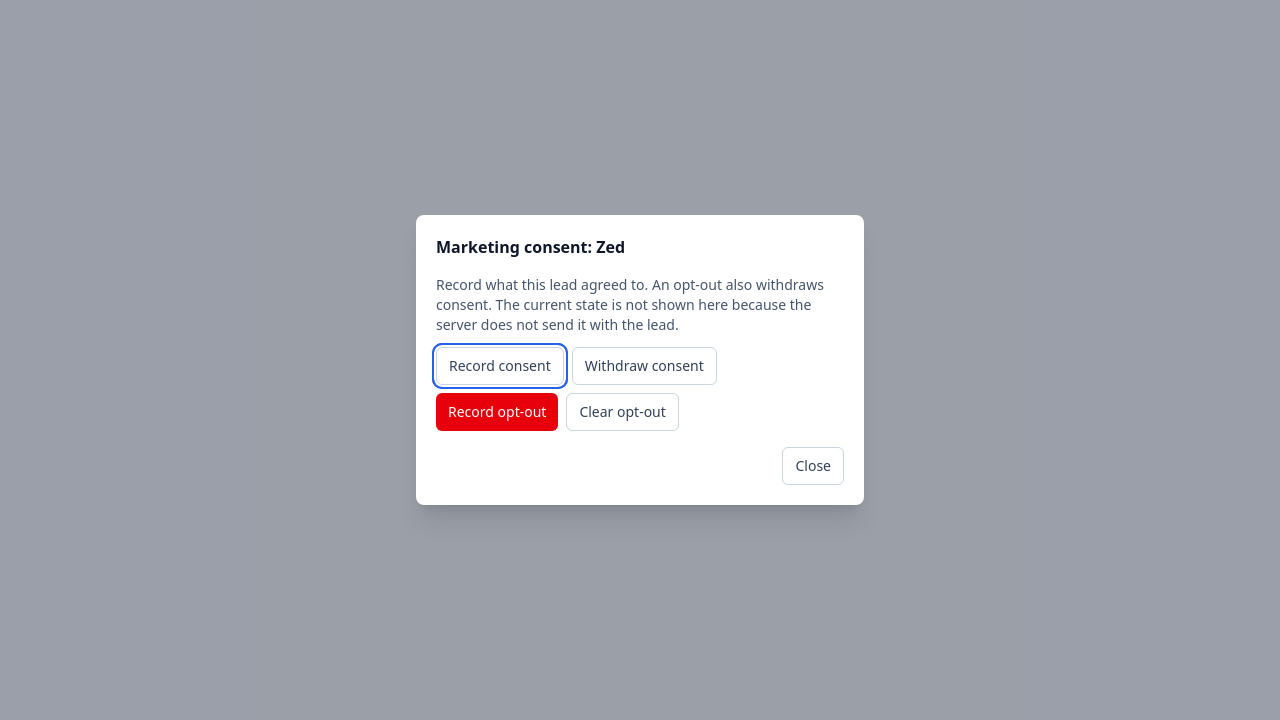
Test: LeadConsentDialog › sends each action and shows refusals
What coordinates should you click on to do the following:
click the button "Record consent"
I would click on:
 (500, 366)
Its box is [436,347,564,385].
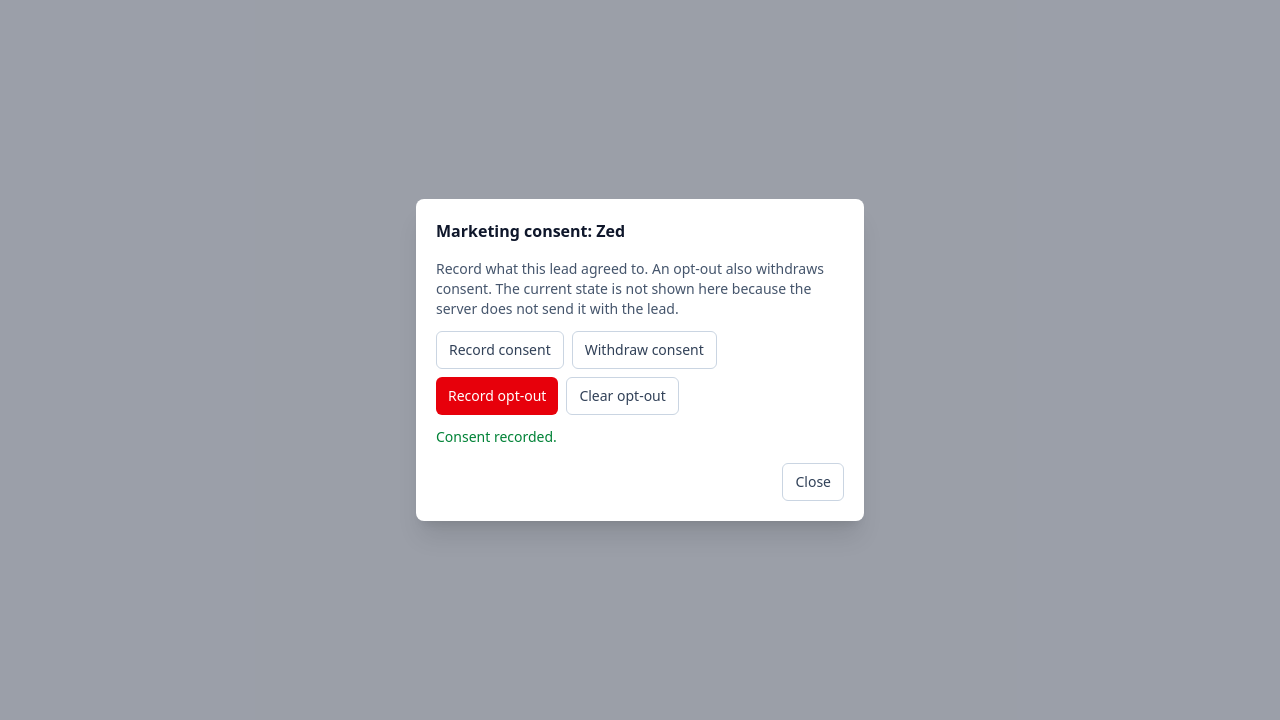
Result: the text "Consent recorded." is shown at [436,427,557,446]
What coordinates should you click on to do the following:
click the button "Record opt-out"
I would click on:
 (497, 396)
Its box is [436,377,558,415].
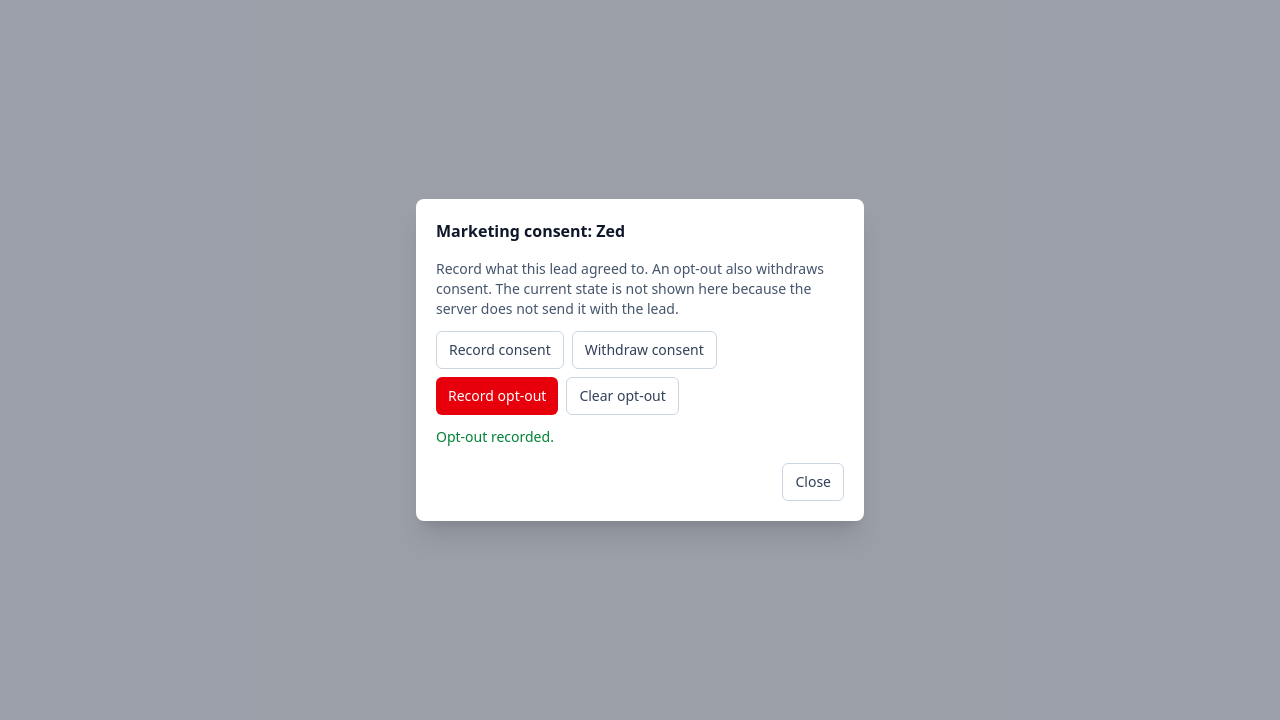
What coordinates should you click on to do the following:
click the button "Clear opt-out"
I would click on:
 (623, 396)
Its box is [566,377,679,415].
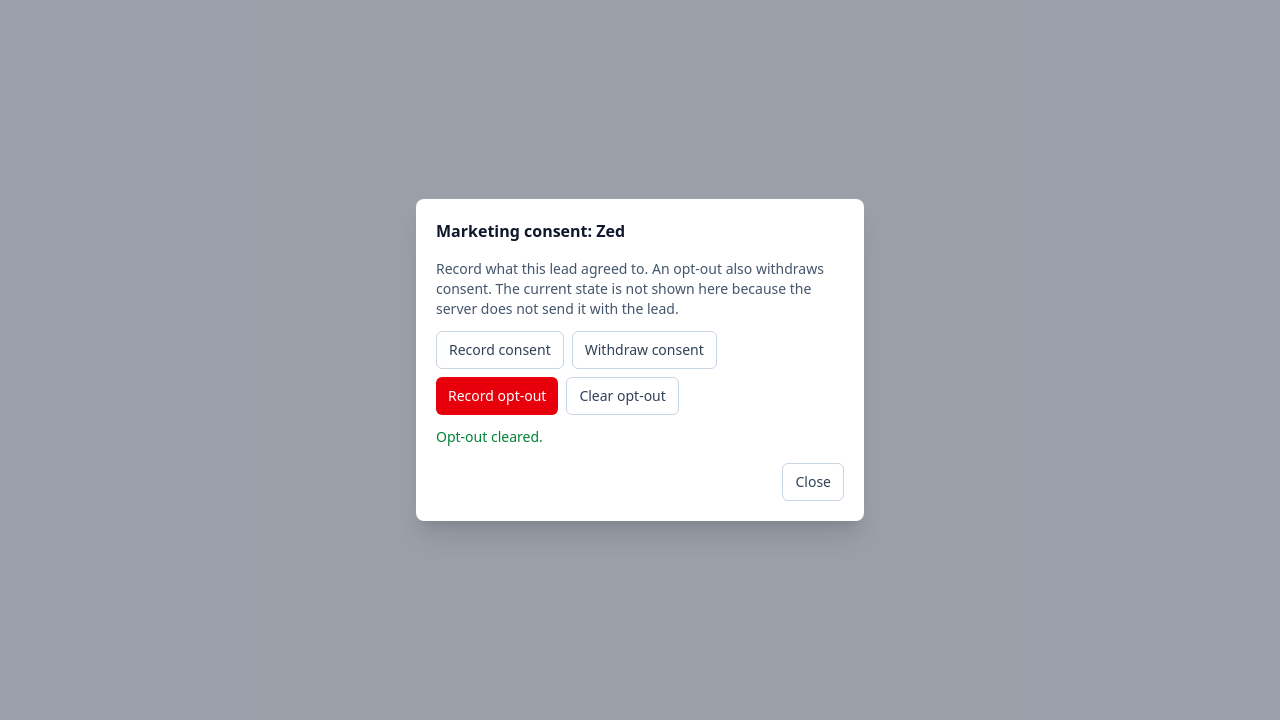
What coordinates should you click on to do the following:
click the button "Withdraw consent"
I would click on:
 (644, 350)
Its box is [572,331,717,369].
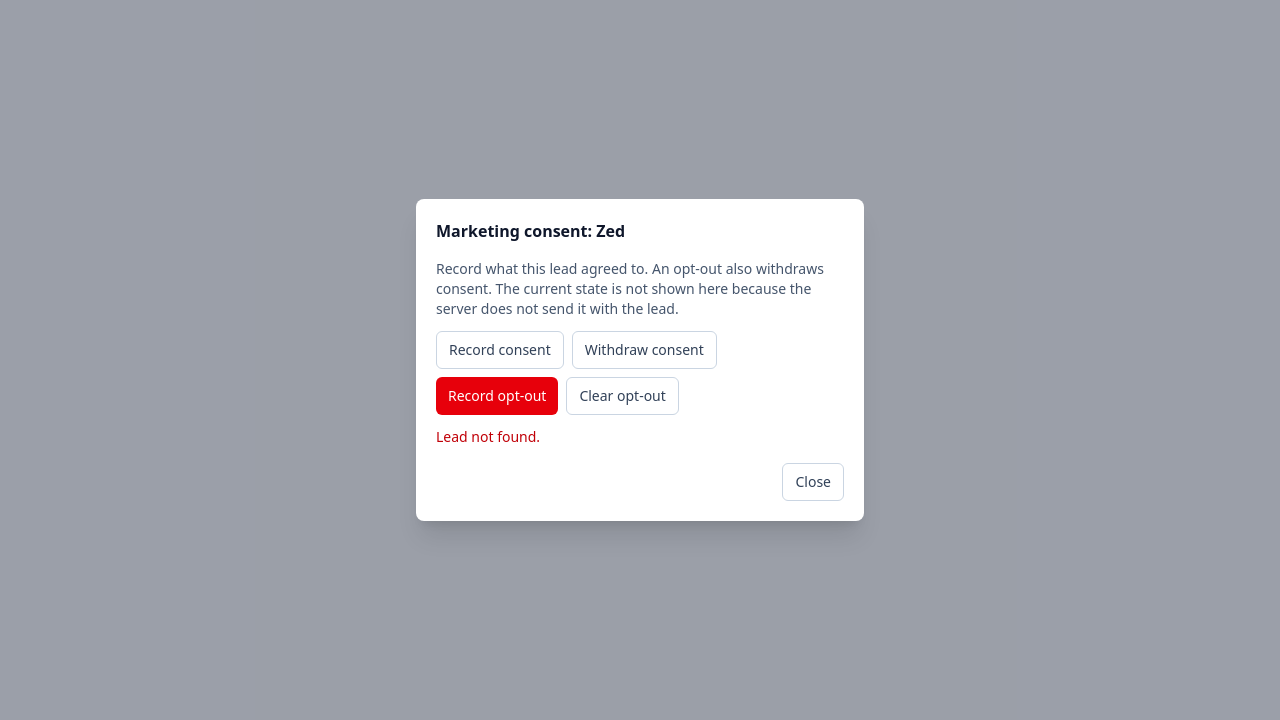
Result: the text "Lead not found." is shown at [436,427,540,446]
